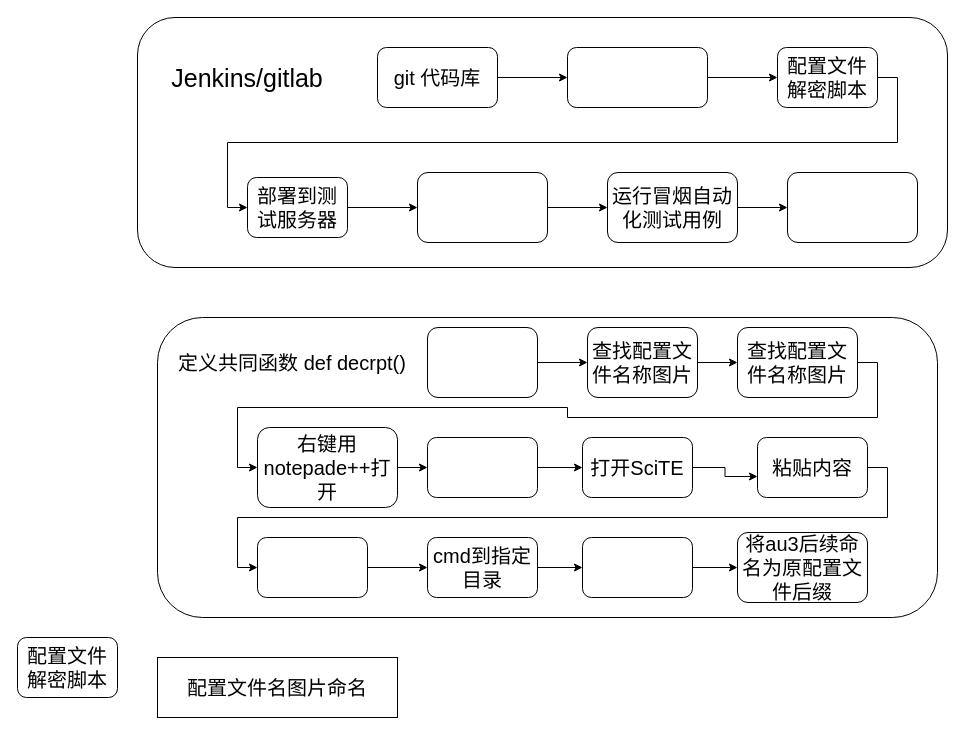
Image size: 965x735. Some labels were removed from this diagram. The box of each missing label's shape, as (x1, y1, x2, y2) in pixels:
windows 拉某个版本分支: (566, 46, 708, 108)
保存文件为au3后续: (256, 536, 368, 598)
删除原有配置文件: (582, 536, 692, 598)
拷贝内容: (426, 436, 538, 498)
测试报告: (786, 172, 918, 242)
测试服务器上修改配置文件参数脚本: (416, 172, 548, 242)
进入指定 路径: (426, 326, 538, 398)
